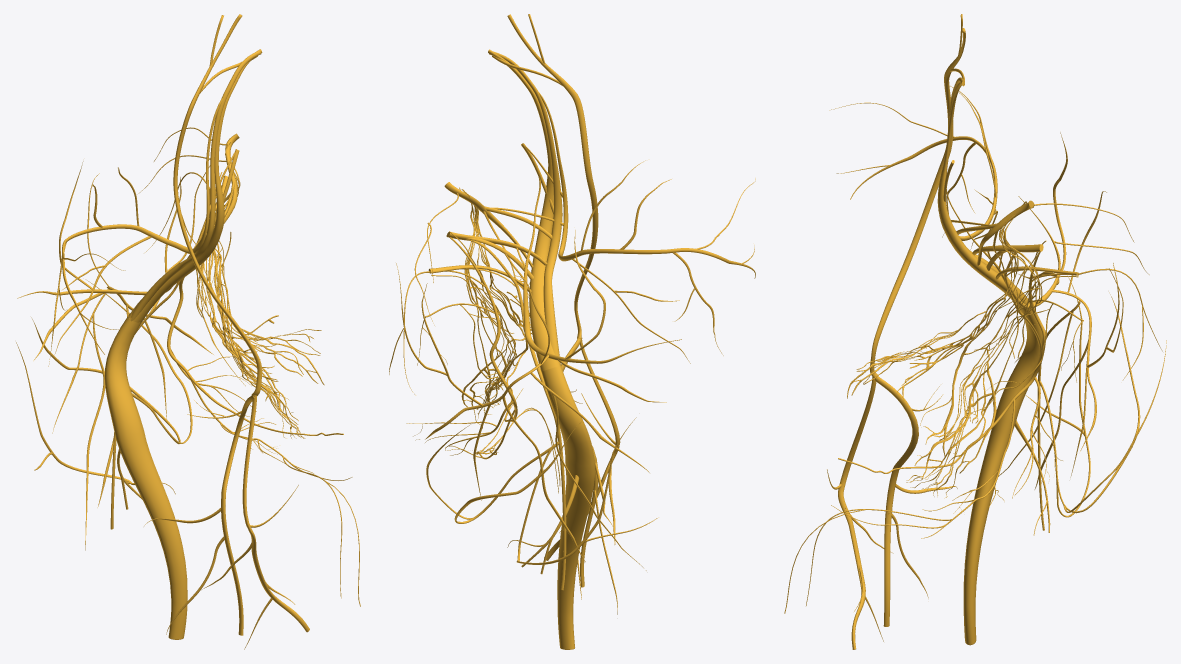
File: open3d-pelvicfloor-nervous-01.glb
3 views of the same model, side by side, from view 1: azimuth 30°, elevation 25°; view 2: azimuth 150°, elevation 25°; view 3: azimuth 270°, elevation 25° (orthographic). The views are drawn at different scales.
Visible parts, largest first — view 1: O3D_51b1f38cf7e2a3, O3D_91f6c48b88f4ad, O3D_4389b1b1e03c48, O3D_f279c5838ec427, O3D_a86ef3e5528345, O3D_c9dd19cc403063, O3D_2b5a71f89561c7, O3D_6d28f9288cd0b2, O3D_964c77b5734258, O3D_42257a52c366fa, O3D_b49a1b4acce5b9, O3D_86247de59069fb (+1 smaller); view 2: O3D_51b1f38cf7e2a3, O3D_4389b1b1e03c48, O3D_a86ef3e5528345, O3D_2b5a71f89561c7, O3D_f279c5838ec427, O3D_91f6c48b88f4ad, O3D_c9dd19cc403063, O3D_42257a52c366fa, O3D_d16c7c0cdfc68f, O3D_b49a1b4acce5b9, O3D_964c77b5734258, O3D_6d28f9288cd0b2 (+2 smaller); view 3: O3D_91f6c48b88f4ad, O3D_51b1f38cf7e2a3, O3D_4389b1b1e03c48, O3D_a86ef3e5528345, O3D_6d28f9288cd0b2, O3D_c9dd19cc403063, O3D_f279c5838ec427, O3D_42257a52c366fa, O3D_964c77b5734258, O3D_b49a1b4acce5b9, O3D_86247de59069fb, O3D_2b5a71f89561c7 (+2 smaller).
Boxes of the visible parts, <box> form: O3D_51b1f38cf7e2a3: <box>104,315,187,639</box>; O3D_91f6c48b88f4ad: <box>196,142,324,438</box>; O3D_4389b1b1e03c48: <box>17,161,224,550</box>; O3D_f279c5838ec427: <box>48,98,236,366</box>; O3D_a86ef3e5528345: <box>128,49,262,322</box>; O3D_c9dd19cc403063: <box>173,14,262,396</box>; O3D_2b5a71f89561c7: <box>130,51,261,321</box>; O3D_6d28f9288cd0b2: <box>144,395,255,635</box>; O3D_964c77b5734258: <box>202,395,309,649</box>; O3D_42257a52c366fa: <box>16,279,192,484</box>; O3D_b49a1b4acce5b9: <box>167,185,343,435</box>; O3D_86247de59069fb: <box>190,379,360,606</box>; O3D_51b1f38cf7e2a3: <box>507,365,595,649</box>; O3D_4389b1b1e03c48: <box>396,176,681,570</box>; O3D_a86ef3e5528345: <box>428,49,560,371</box>; O3D_2b5a71f89561c7: <box>446,51,562,364</box>; O3D_f279c5838ec427: <box>491,92,755,363</box>; O3D_91f6c48b88f4ad: <box>431,187,532,428</box>; O3D_c9dd19cc403063: <box>492,14,598,338</box>; O3D_42257a52c366fa: <box>426,417,658,564</box>; O3D_d16c7c0cdfc68f: <box>462,211,566,590</box>; O3D_b49a1b4acce5b9: <box>425,237,525,421</box>; O3D_964c77b5734258: <box>544,336,620,599</box>; O3D_6d28f9288cd0b2: <box>561,337,617,614</box>; O3D_91f6c48b88f4ad: <box>847,201,1078,498</box>; O3D_51b1f38cf7e2a3: <box>963,321,1050,645</box>; O3D_4389b1b1e03c48: <box>946,132,1123,489</box>; O3D_a86ef3e5528345: <box>938,80,1078,324</box>; O3D_6d28f9288cd0b2: <box>875,376,957,626</box>; O3D_c9dd19cc403063: <box>870,14,965,379</box>; O3D_f279c5838ec427: <box>829,85,997,249</box>; O3D_42257a52c366fa: <box>1026,275,1166,517</box>; O3D_964c77b5734258: <box>827,377,893,649</box>; O3D_b49a1b4acce5b9: <box>838,251,1083,473</box>; O3D_86247de59069fb: <box>784,399,1015,613</box>; O3D_2b5a71f89561c7: <box>942,77,1043,284</box>.
Size of the model in its own units: 0.1394 by 0.3189 by 0.1703.
